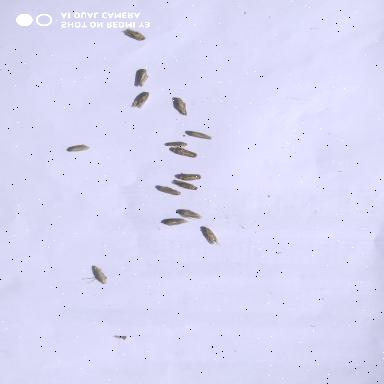pbw: (114, 26, 155, 46), (126, 88, 158, 112), (169, 206, 211, 224), (164, 93, 192, 119), (195, 223, 224, 247), (165, 177, 201, 195), (166, 144, 200, 162), (170, 168, 208, 184), (128, 66, 152, 90), (181, 127, 217, 143), (150, 184, 184, 200), (156, 138, 192, 152), (156, 216, 190, 230), (61, 142, 93, 154)
